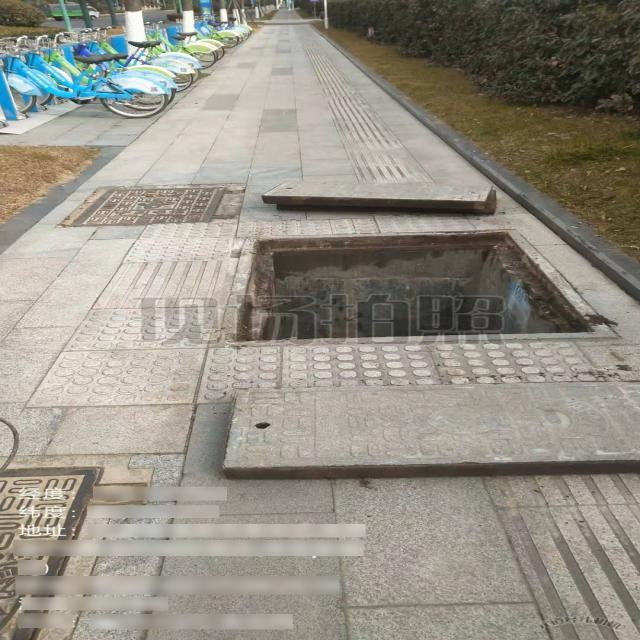Good: (56, 180, 241, 224)
Lose: (220, 180, 640, 480)
